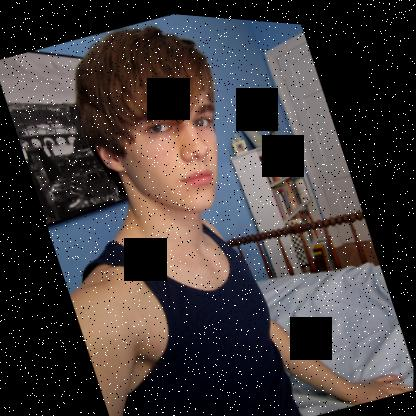Male: (79, 54, 243, 237)
